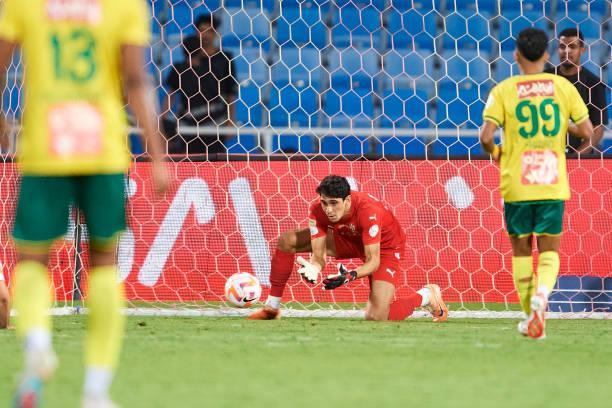Goalkeeper: (247, 175, 448, 322)
Player: (0, 1, 170, 408), (481, 29, 593, 338)
ball: (225, 274, 262, 308)
